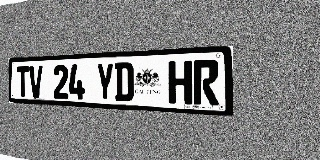2: (53, 64, 68, 99)
4: (69, 64, 84, 100)
D: (115, 62, 134, 102)
H: (169, 60, 192, 104)
R: (193, 59, 219, 106)
T: (17, 66, 29, 97)
V: (29, 65, 43, 98)
Y: (96, 63, 114, 101)
